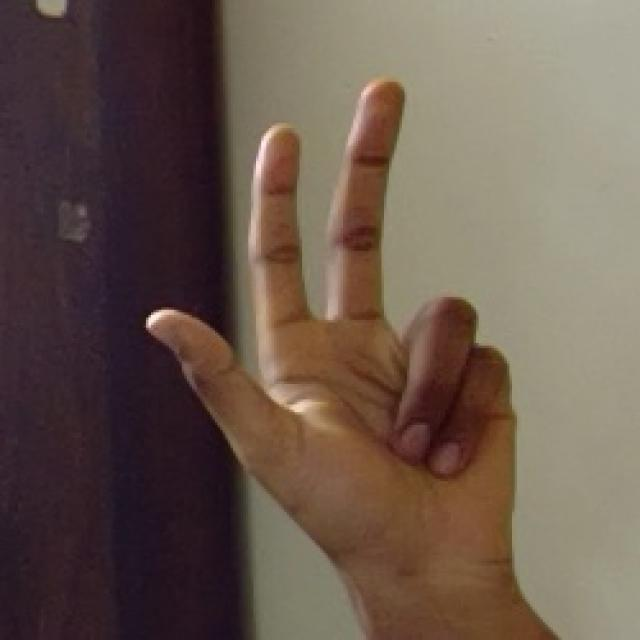Numeric-3: (136, 77, 519, 586)
